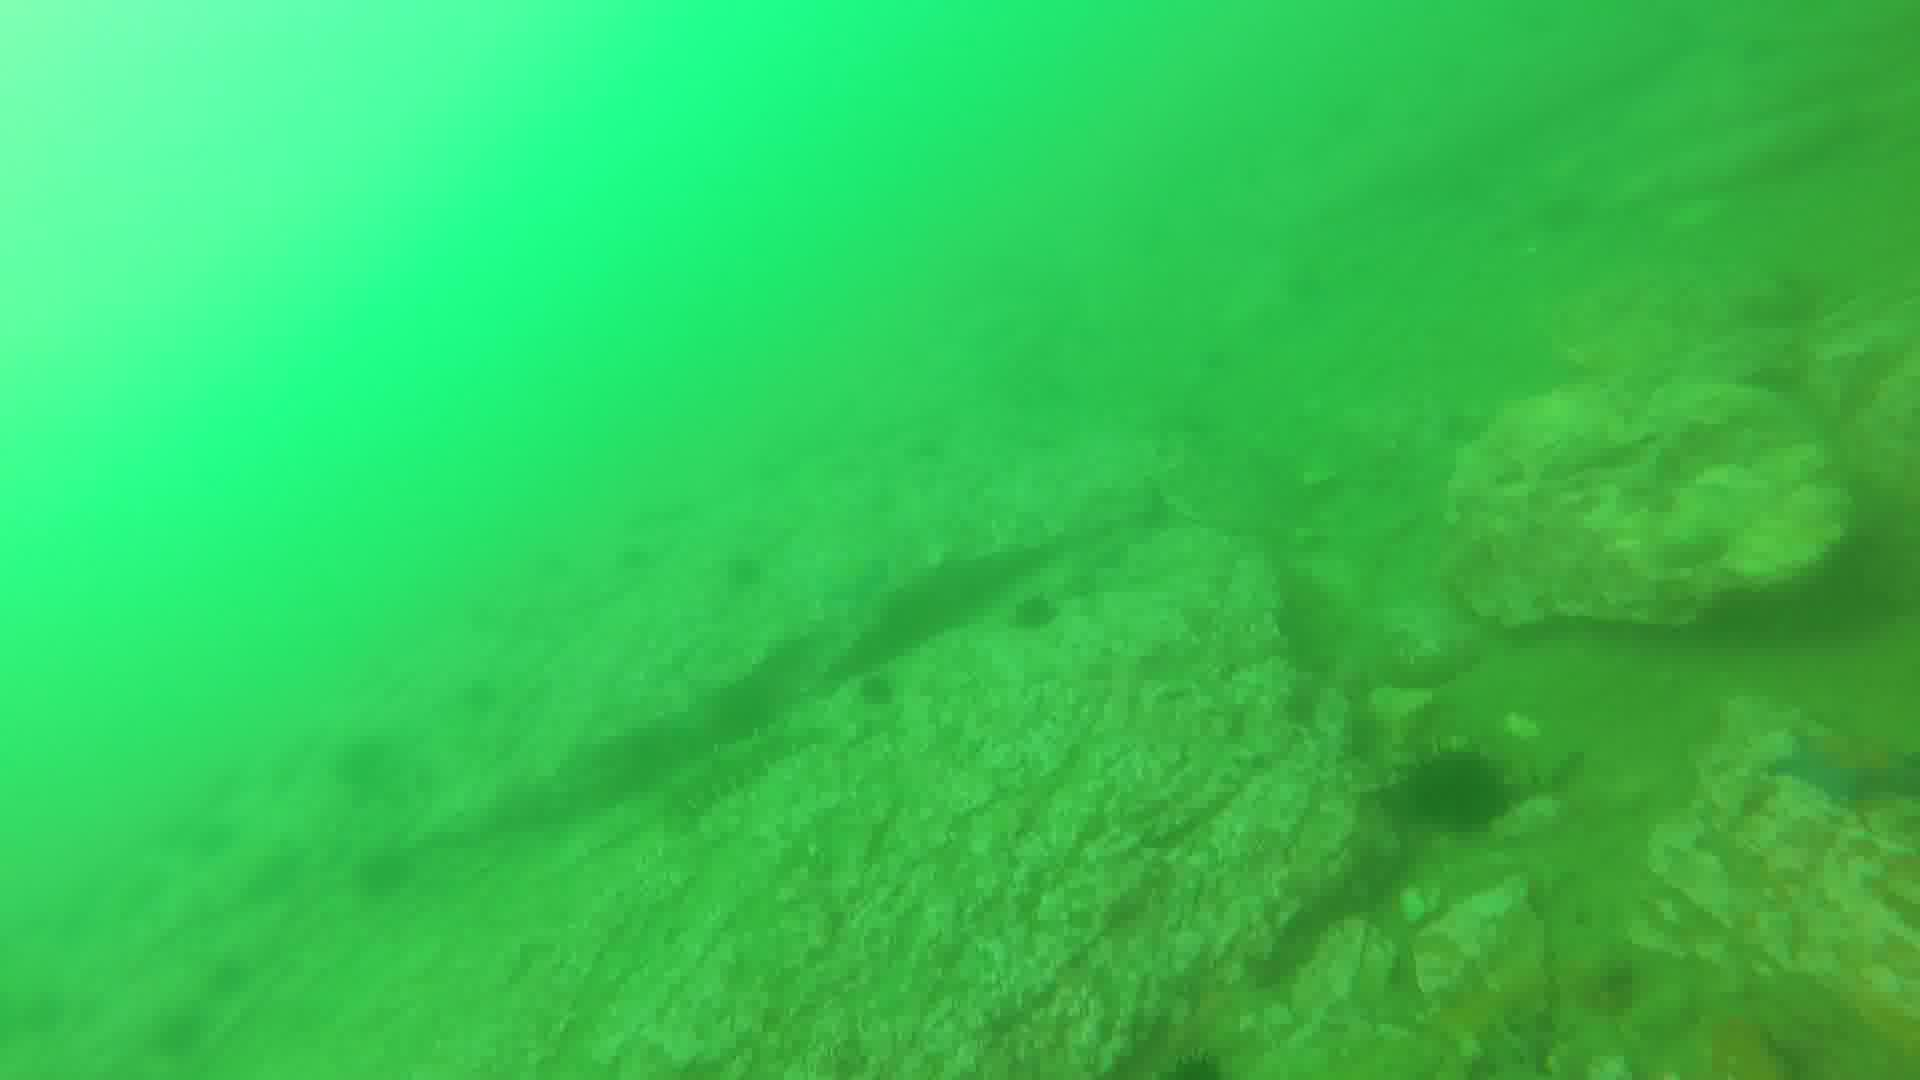echinus: (1403, 750, 1519, 836), (323, 738, 404, 807), (353, 847, 411, 901), (1156, 1046, 1236, 1080), (1010, 597, 1060, 636), (720, 558, 767, 593), (860, 679, 906, 711)
holothurian: (671, 723, 807, 819)
starfish: (1760, 727, 1920, 808)
